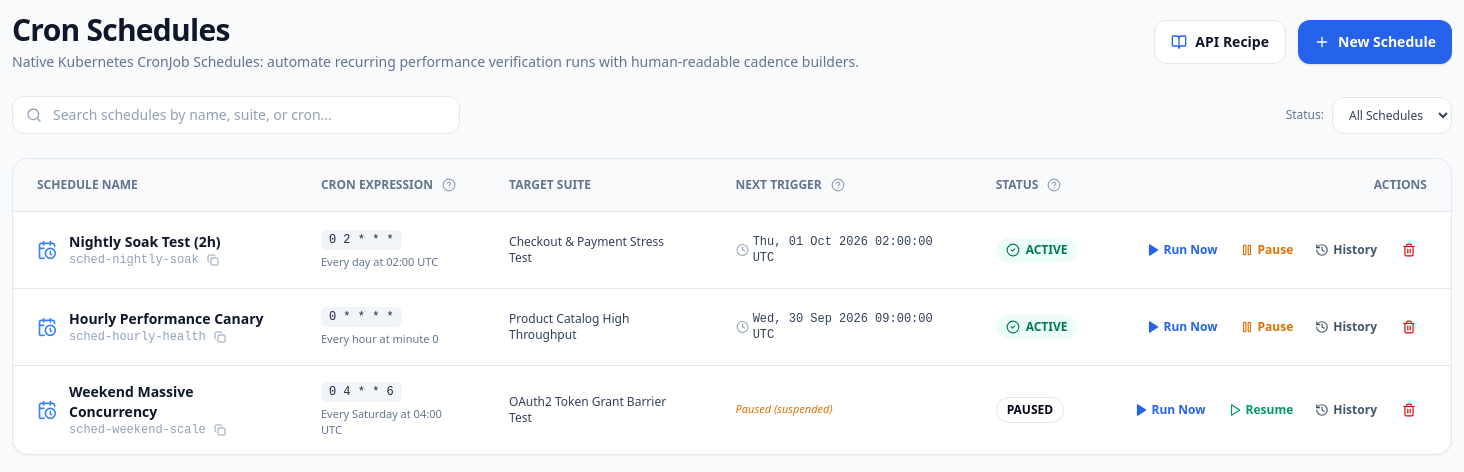
SchedulesView Component › filters schedules by search query
Check: the text "Nightly Soak Test (2h)" is shown, box [69,232,221,252]
Type "Canary" into the field with placeholder "Search schedules by name, suite, or cron..." at (236, 115), box [12,96,460,134]
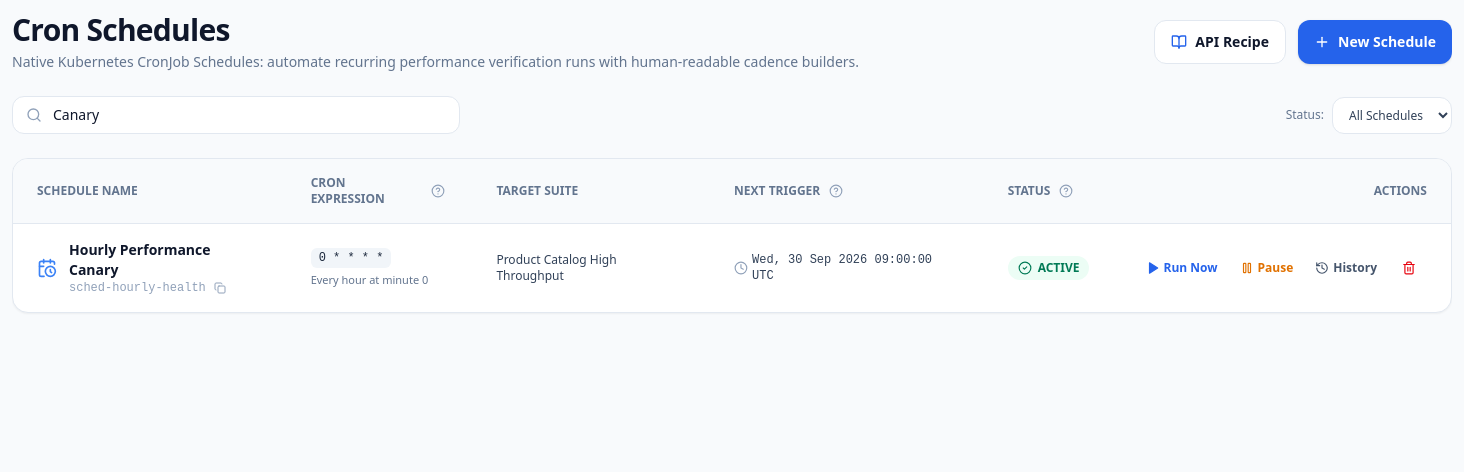
Check: the text "Hourly Performance Canary" is shown, box [69,240,210,279]
Check: the text "Nightly Soak Test (2h)" is gone
